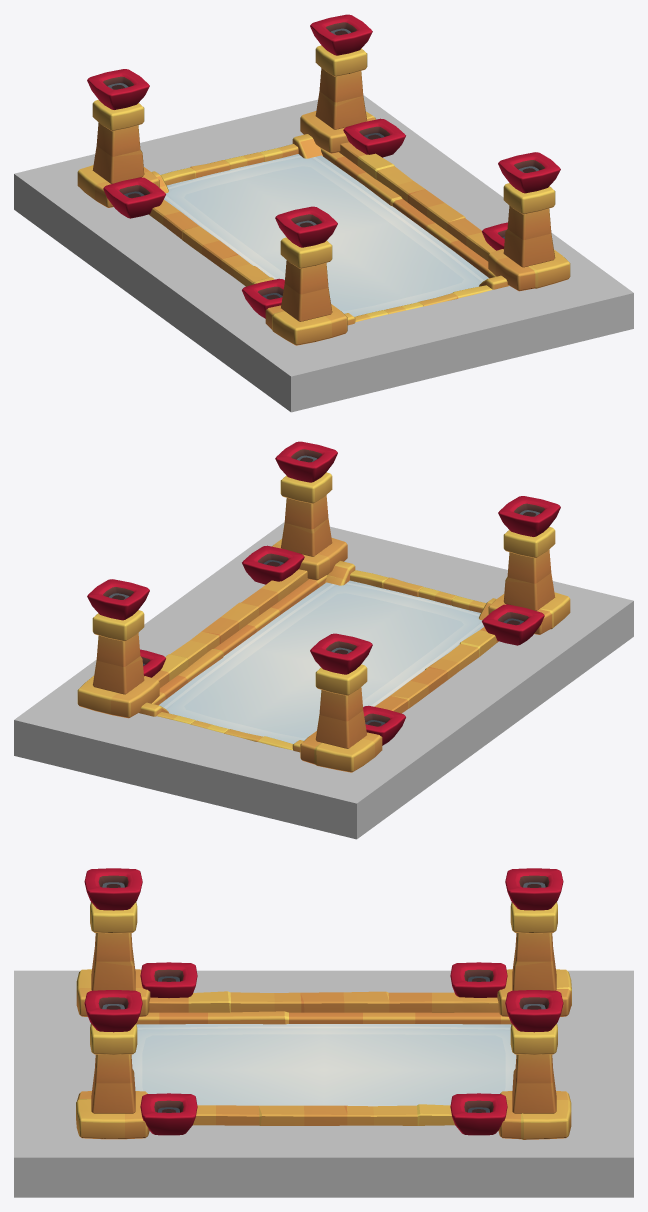
Rendered from pool.fbx.
3 views of the same model, one above another, from view 1: azimuth 30°, elevation 25°; view 2: azimuth 150°, elevation 25°; view 3: azimuth 270°, elevation 25° (orthographic). The views are drawn at different scales.
Parts seen in each view (by area): view 1: pool, pool_frame, milk; view 2: pool, pool_frame, milk; view 3: pool, pool_frame, milk.
Part boxes in pixels (x1,y1,x2,y2): pool: (14,95,633,412); pool_frame: (77,14,570,345); milk: (164,154,488,316); pool: (14,522,633,839); pool_frame: (77,441,570,772); milk: (159,580,484,743); pool: (14,970,633,1197); pool_frame: (76,868,571,1139); milk: (131,1024,516,1106).
Size of the model in its own units: 1000 by 494 by 1400.
